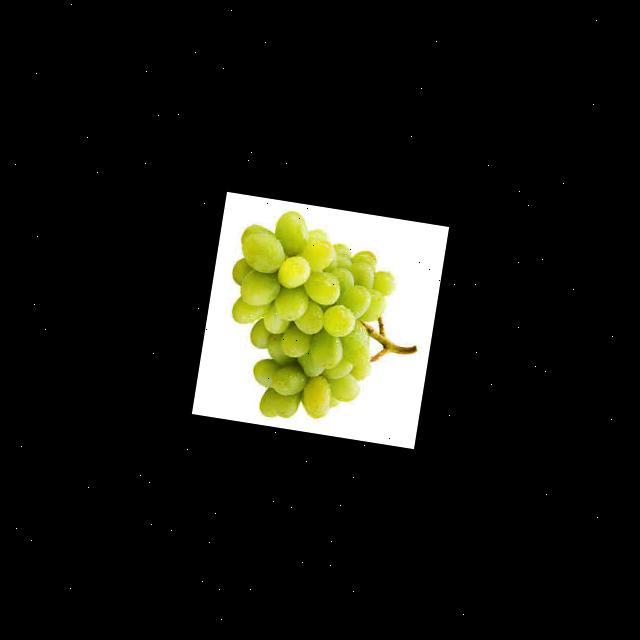grape: (215, 210, 412, 434)
